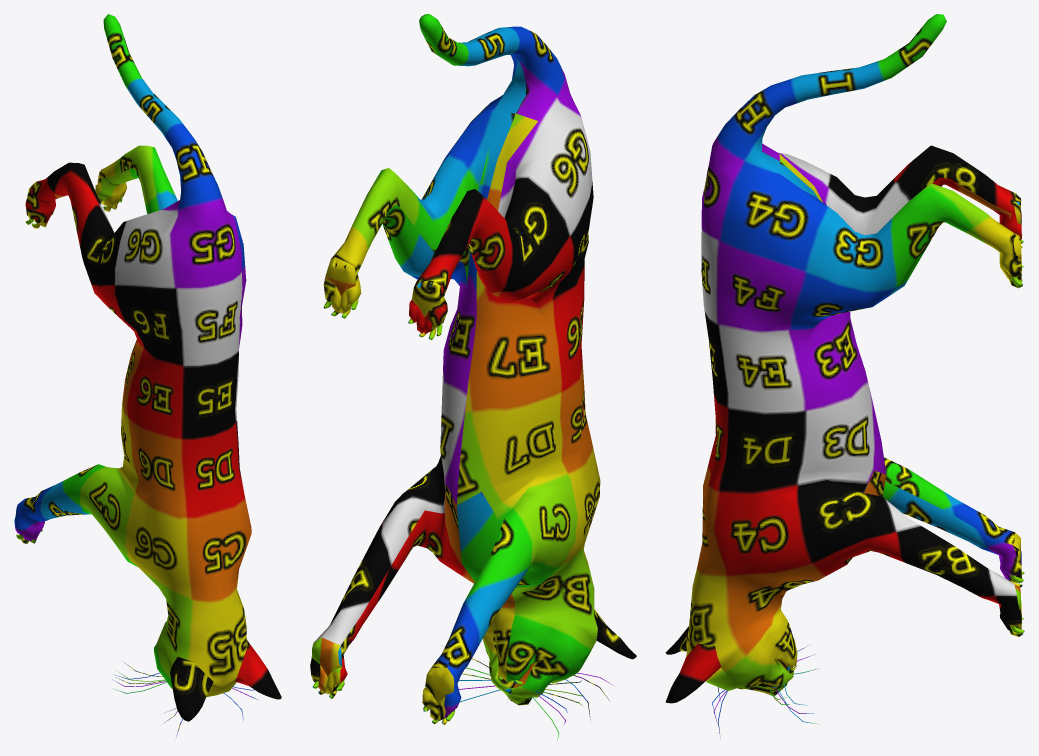
The model's file is jnx_new_uv.obj.
The picture shows the model from 3 angles, left to right: view 1: azimuth 30°, elevation 25°; view 2: azimuth 150°, elevation 25°; view 3: azimuth 270°, elevation 25°; orthographic projection. The views are drawn at different scales.
Visible parts, largest first — view 1: wang:Mesh; view 2: wang:Mesh; view 3: wang:Mesh.
Boxes of the visible parts, x1,y1,x2,y2 form: wang:Mesh: [14, 14, 281, 737]; wang:Mesh: [310, 14, 636, 740]; wang:Mesh: [665, 14, 1024, 738].
Size of the model in its own units: 12.57 by 61.42 by 28.21.
Materials: 1 (1 with a texture image).
